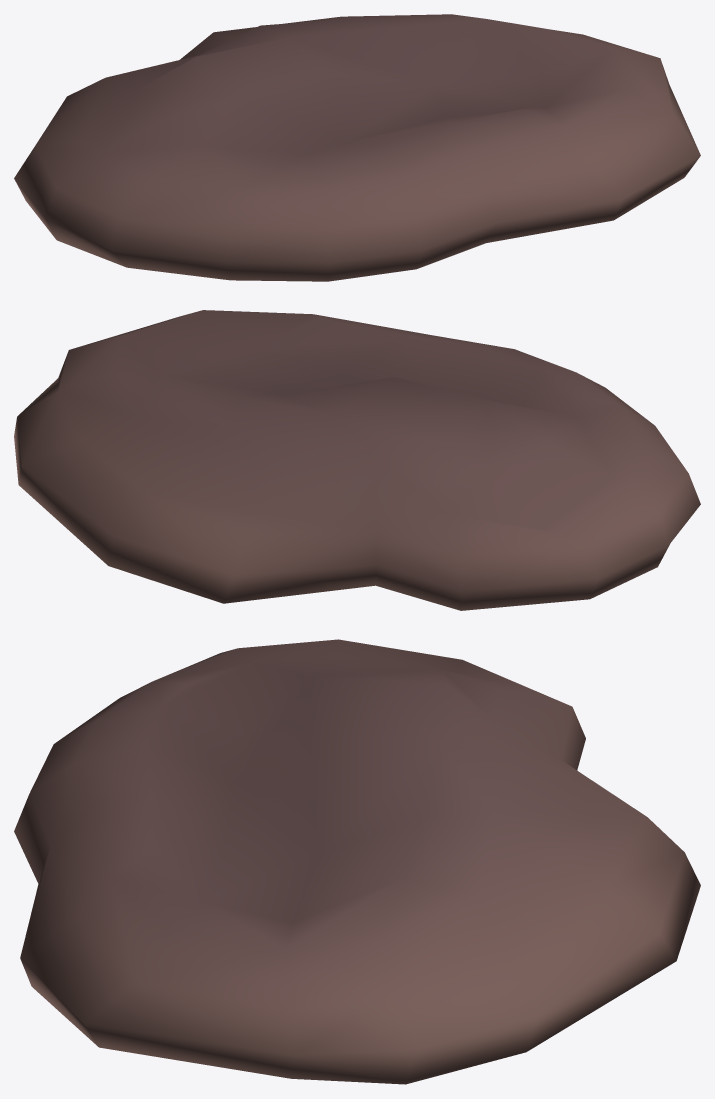
Rendered from furnishings-trash-usedgum_v3.glb.
3 views of the same model, one above another, from view 1: azimuth 30°, elevation 25°; view 2: azimuth 150°, elevation 25°; view 3: azimuth 270°, elevation 25° (orthographic). The views are drawn at different scales.
Parts seen in each view (by area): view 1: UsedGum_v3; view 2: UsedGum_v3; view 3: UsedGum_v3.
Boxes of the visible parts, x1,y1,x2,y2 form: UsedGum_v3: [14, 14, 700, 281]; UsedGum_v3: [14, 310, 700, 610]; UsedGum_v3: [14, 639, 700, 1084].
Size of the model in its own units: 0.124 by 0.0231 by 0.0945.
